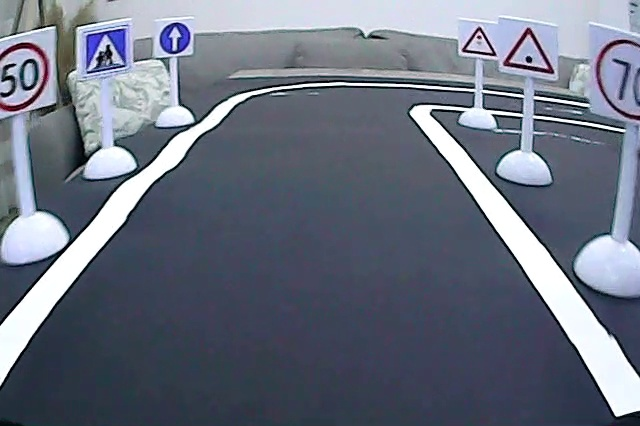green light: (501, 23, 558, 79)
red light: (460, 22, 498, 59)
school crossing: (81, 24, 132, 78)
speed limit 50: (1, 36, 54, 116)
speed limit 70: (592, 29, 640, 124)
